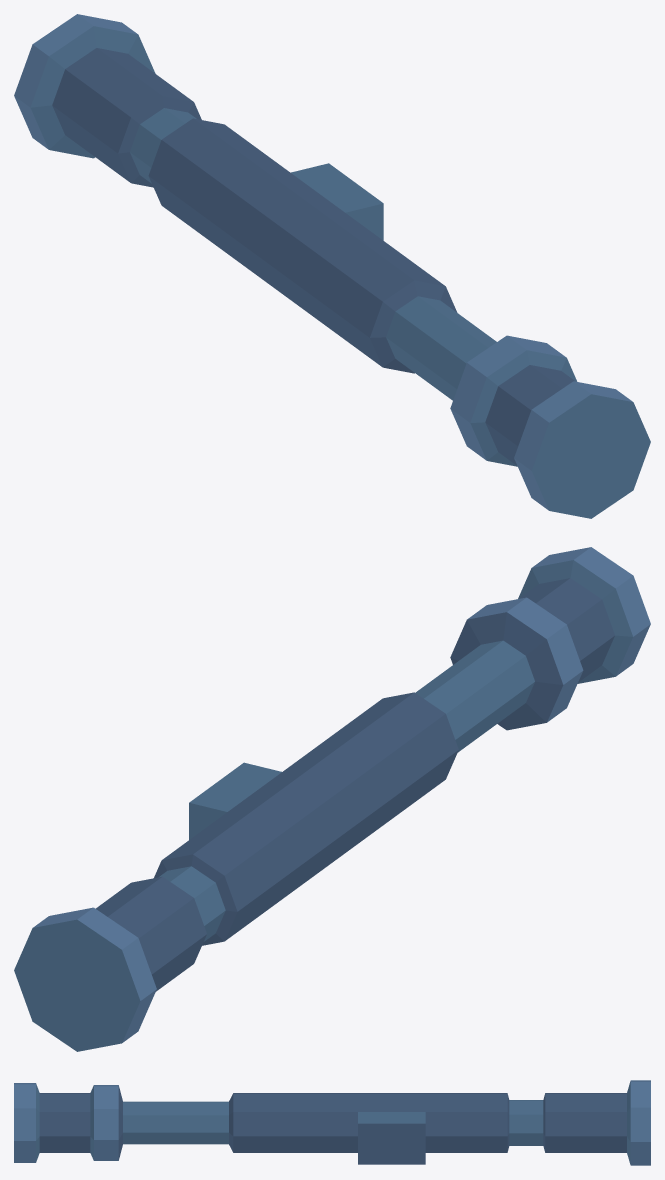
Rendered from pipeSeg-a2.glb.
The picture shows the model from 3 angles, top to bottom: view 1: azimuth 30°, elevation 25°; view 2: azimuth 150°, elevation 25°; view 3: azimuth 270°, elevation 25°; orthographic projection. The views are drawn at different scales.
Visible parts, largest first — view 1: pipeSeg-a2; view 2: pipeSeg-a2; view 3: pipeSeg-a2.
Boxes of the visible parts, x1=… form: pipeSeg-a2: x1=14, y1=14, x2=650, y2=518; pipeSeg-a2: x1=14, y1=547, x2=650, y2=1051; pipeSeg-a2: x1=14, y1=1080, x2=650, y2=1165.
Size of the model in its own units: 0.7476 by 0.7103 by 5.
1 material, 1 textured.
